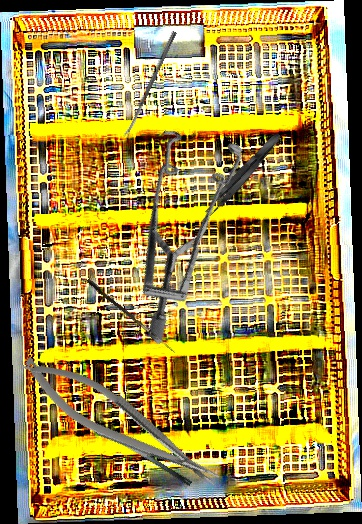Hook Surgical: (85, 278, 179, 354)
Needle Holder: (14, 341, 226, 506)
Spatula Surgical: (80, 413, 193, 496)
Speculum: (54, 100, 301, 346)
Surgical Spoon: (123, 30, 177, 139)
Tissue Forceps: (202, 129, 285, 220)
